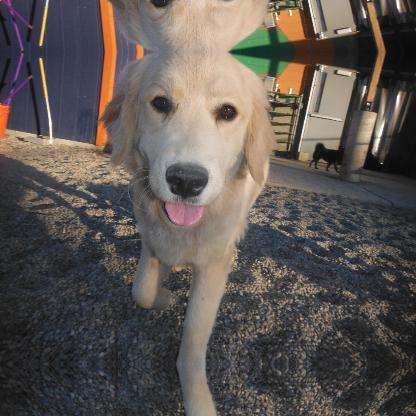Dog: (96, 52, 276, 362), (308, 142, 346, 172)
